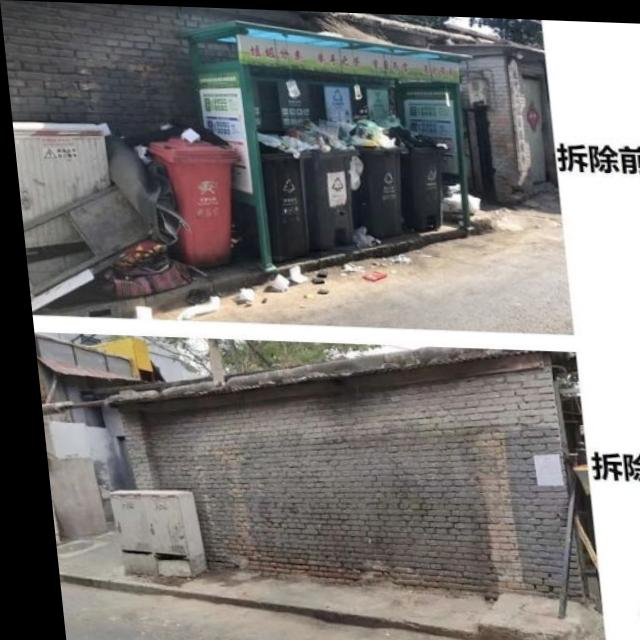garbage: (120, 250, 386, 326)
overflow: (142, 124, 241, 268), (293, 119, 362, 248), (252, 128, 317, 260), (344, 115, 408, 234), (395, 122, 445, 229)
